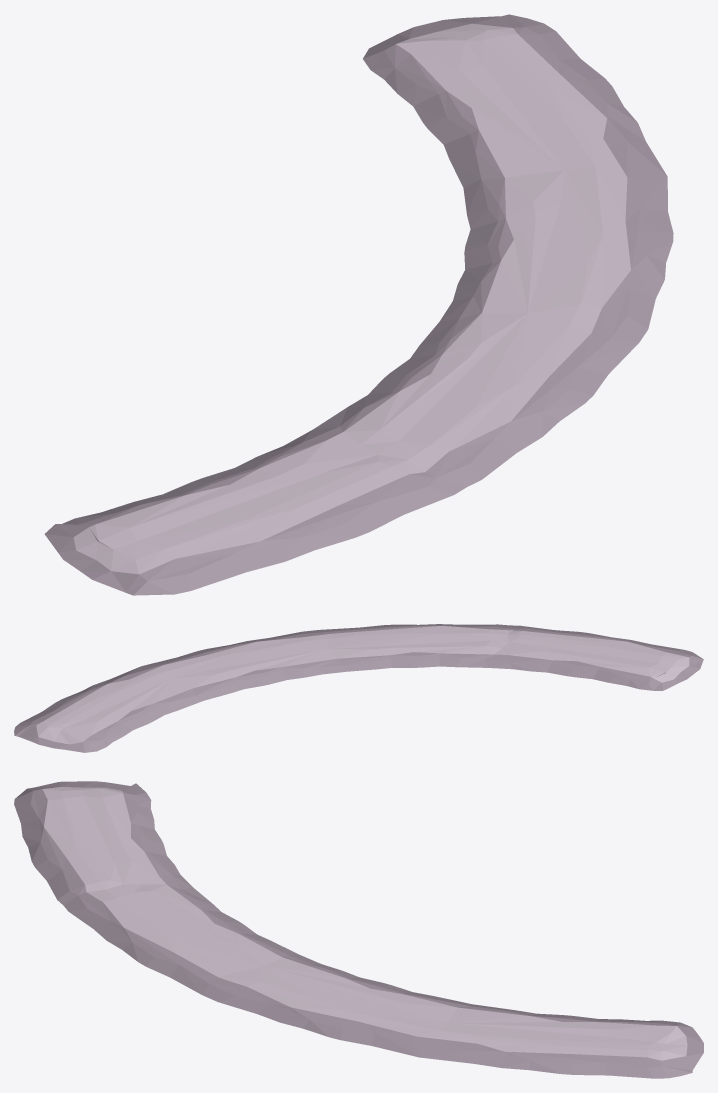
The model's file is SM_Env_Train_Track_Curve_01.fbx.
3 renders of one model, top to bottom at view 1: azimuth 30°, elevation 25°; view 2: azimuth 150°, elevation 25°; view 3: azimuth 270°, elevation 25°, orthographic. The views are drawn at different scales.
Visible parts, largest first — view 1: SM_Env_Train_Track_Curve_01_Dirt; view 2: SM_Env_Train_Track_Curve_01_Dirt; view 3: SM_Env_Train_Track_Curve_01_Dirt.
Boxes of the visible parts, box(x1,y1,x2,y2) form: SM_Env_Train_Track_Curve_01_Dirt: box(44, 14, 673, 595); SM_Env_Train_Track_Curve_01_Dirt: box(14, 624, 703, 752); SM_Env_Train_Track_Curve_01_Dirt: box(14, 781, 703, 1078).
Bounding box in the file's own units: 29.79 × 0.3956 × 29.35.
Materials: 1 (1 with a texture image).
